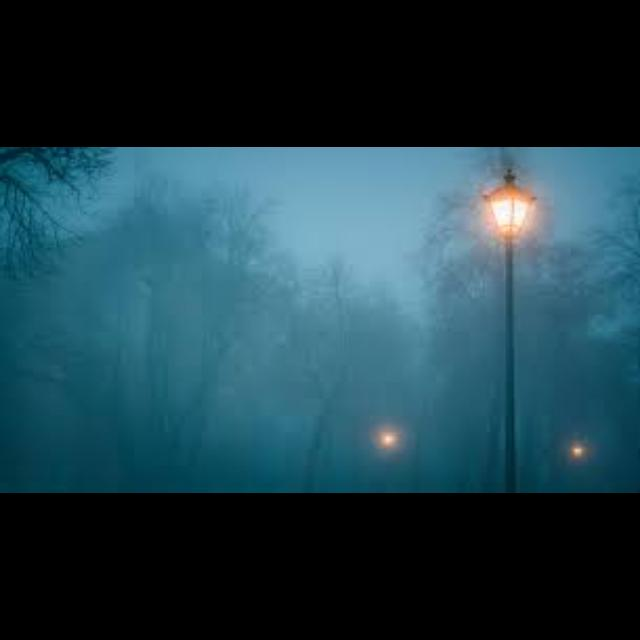Street-Lamp: (472, 155, 542, 492)
